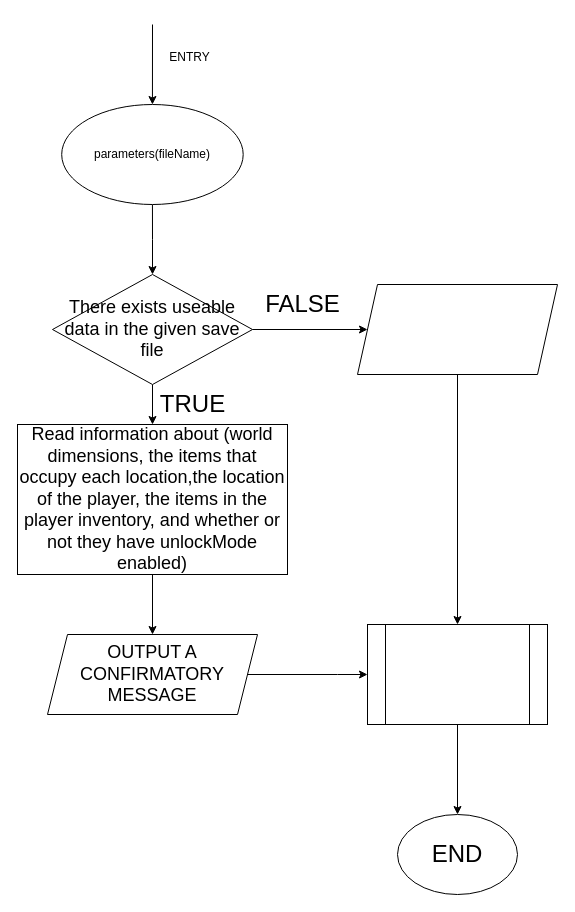
The diagram is 575 pixels wide and 912 high, and some of its shapes have lost their labels. Each missing label, with the centre of its shape:
OUTPUT AN ERROR MESSAGE: point 457,329
waitForEnter: point 457,674
